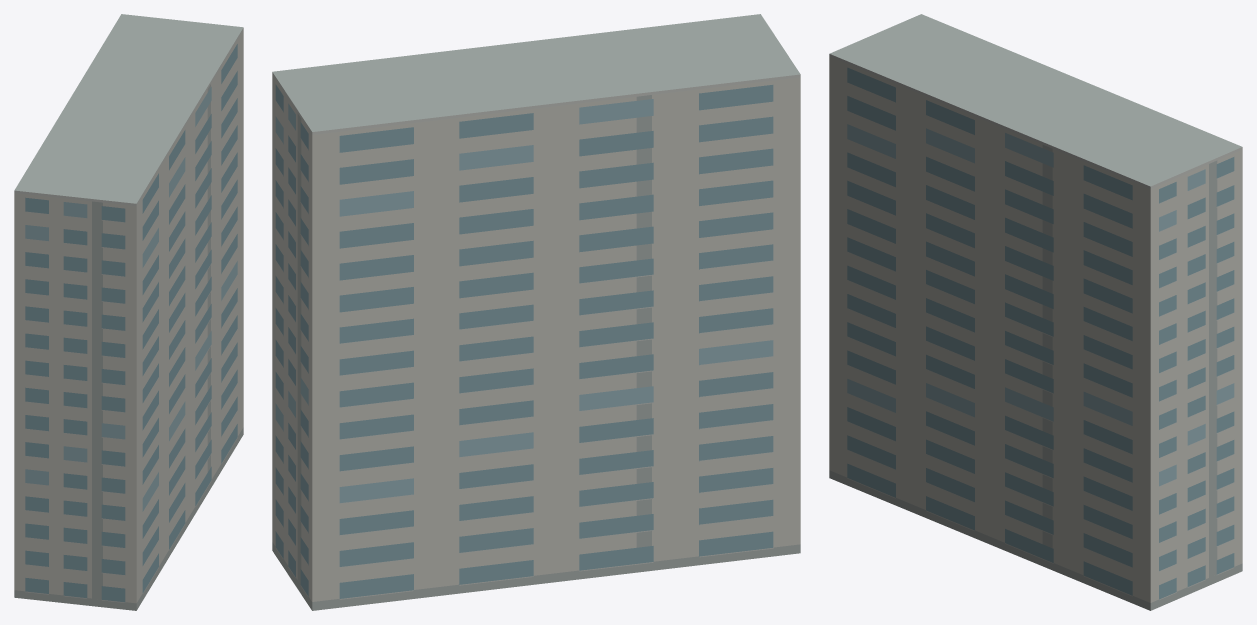
File: residential-633e6f67-f558-481c-8dd1-1efd3faf7c6a.glb
3 renders of one model, left to right at view 1: azimuth 30°, elevation 25°; view 2: azimuth 150°, elevation 25°; view 3: azimuth 270°, elevation 25°, orthographic. The views are drawn at different scales.
Visible parts, largest first — view 1: residential-633e6f67-f558-481c-8dd1-1efd3faf7c6a.tmp; view 2: residential-633e6f67-f558-481c-8dd1-1efd3faf7c6a.tmp; view 3: residential-633e6f67-f558-481c-8dd1-1efd3faf7c6a.tmp.
Boxes of the visible parts, box(x1,y1,x2,y2) form: residential-633e6f67-f558-481c-8dd1-1efd3faf7c6a.tmp: box(14, 14, 243, 610); residential-633e6f67-f558-481c-8dd1-1efd3faf7c6a.tmp: box(272, 14, 800, 610); residential-633e6f67-f558-481c-8dd1-1efd3faf7c6a.tmp: box(829, 14, 1242, 610).
Bounding box in the file's own units: 34.9 × 40 × 35.31.
